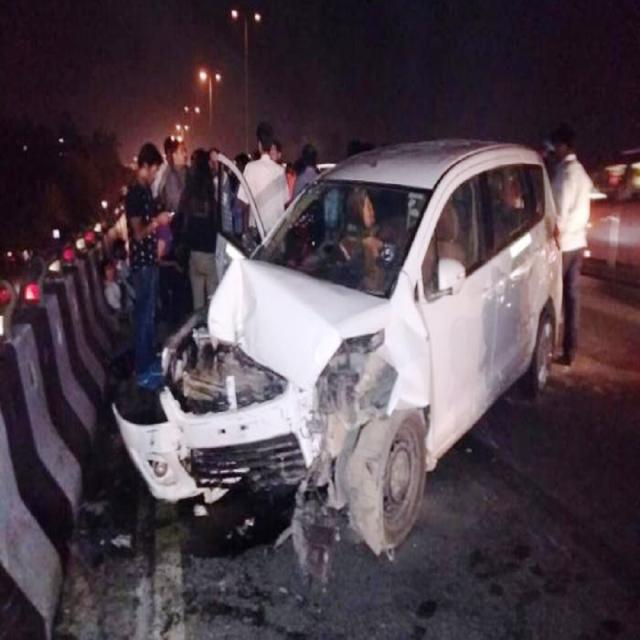accident: (114, 141, 561, 578)
